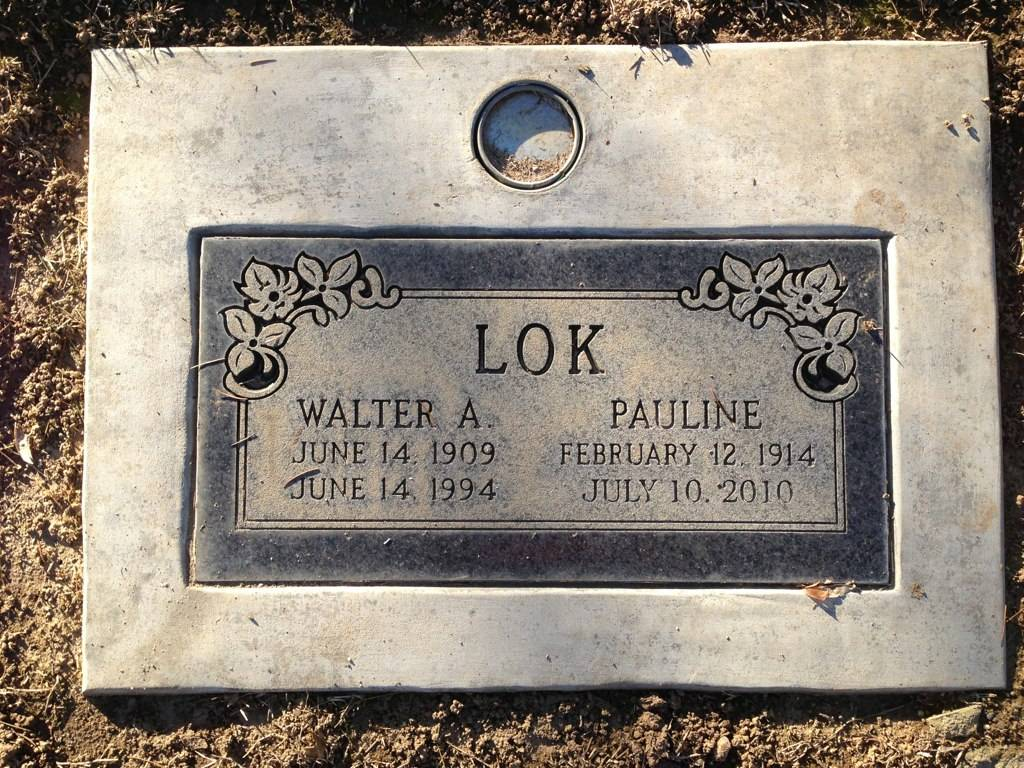flat: (89, 44, 1004, 700)
